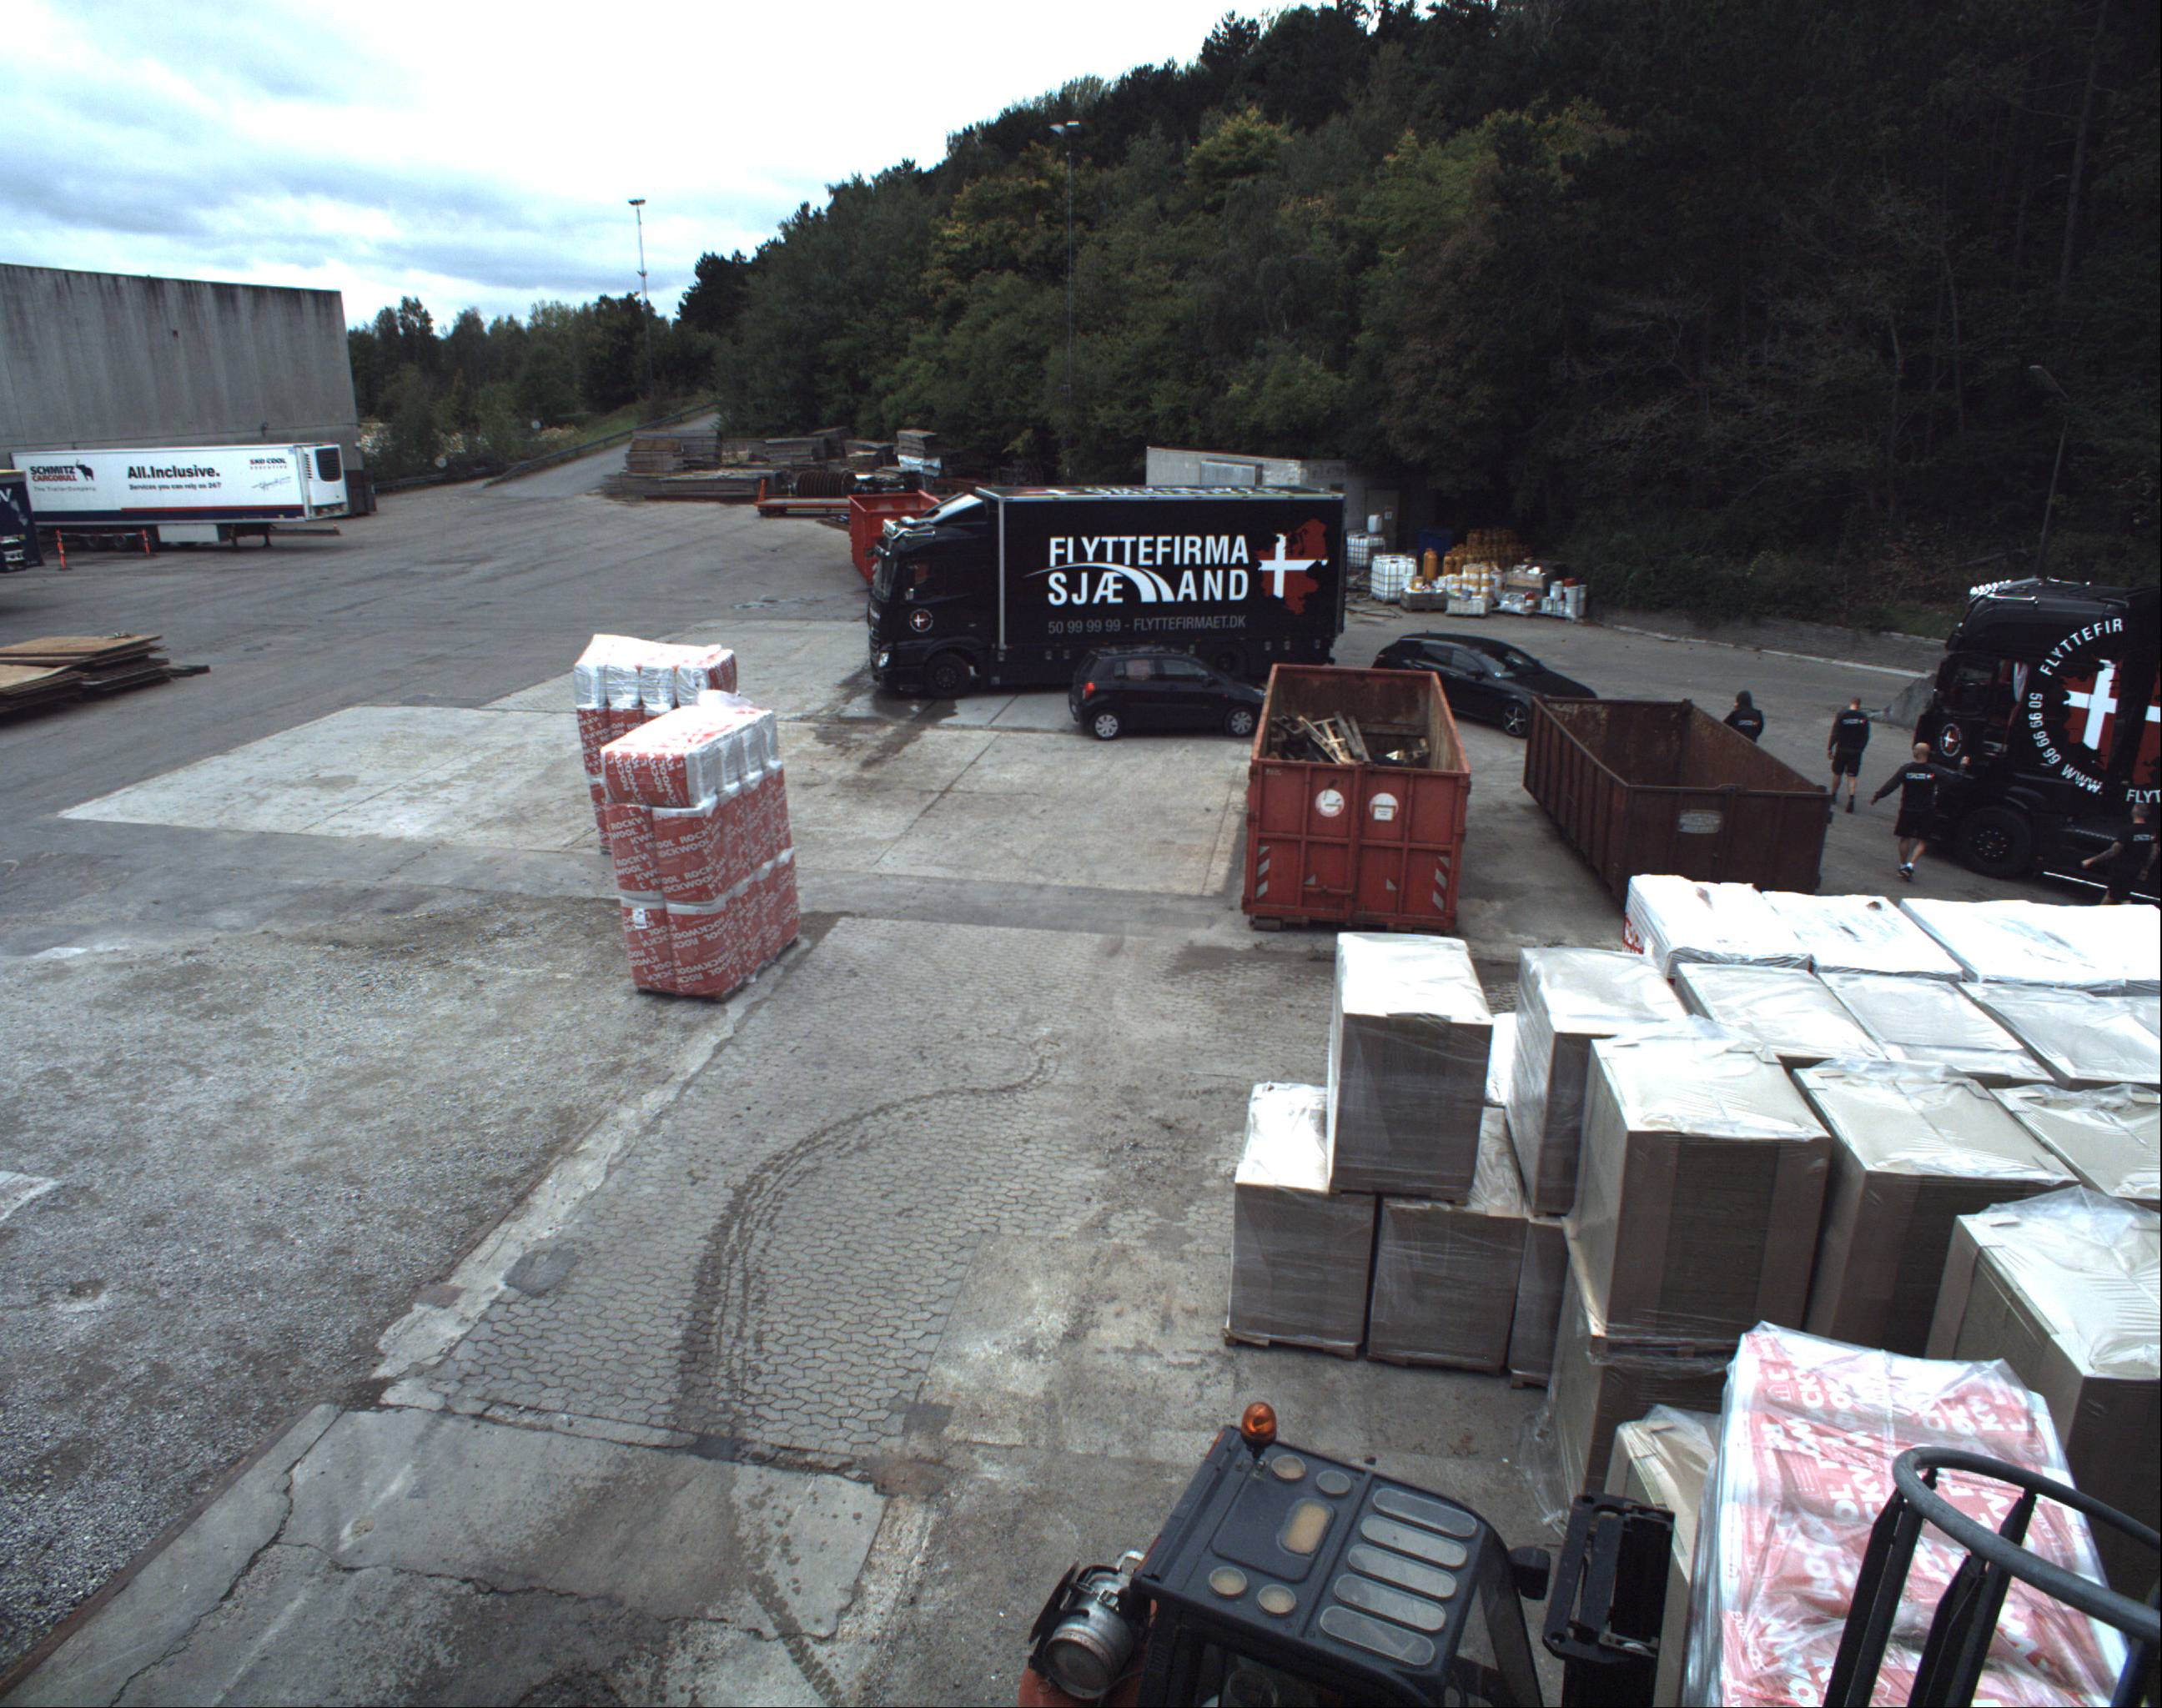rockwool_batts: (598, 686, 797, 1011), (572, 634, 732, 795)
